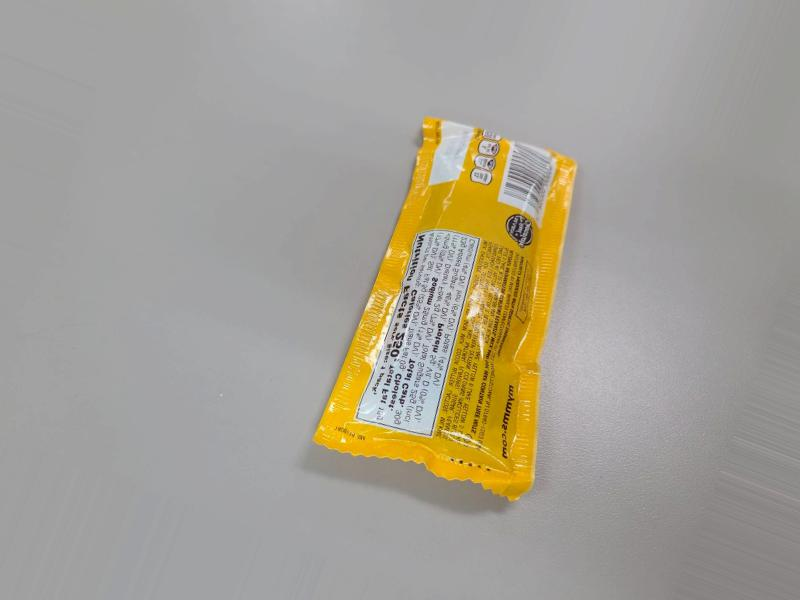m&m: (315, 139, 577, 486)
